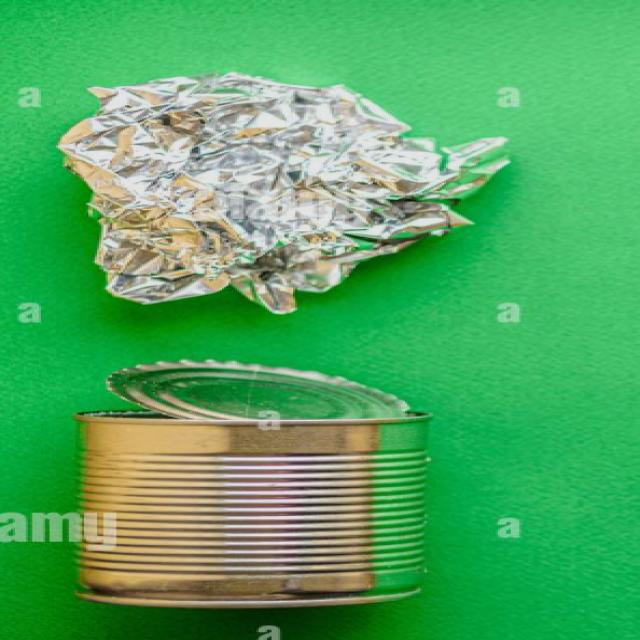dry: (48, 71, 502, 333), (46, 364, 435, 609)
